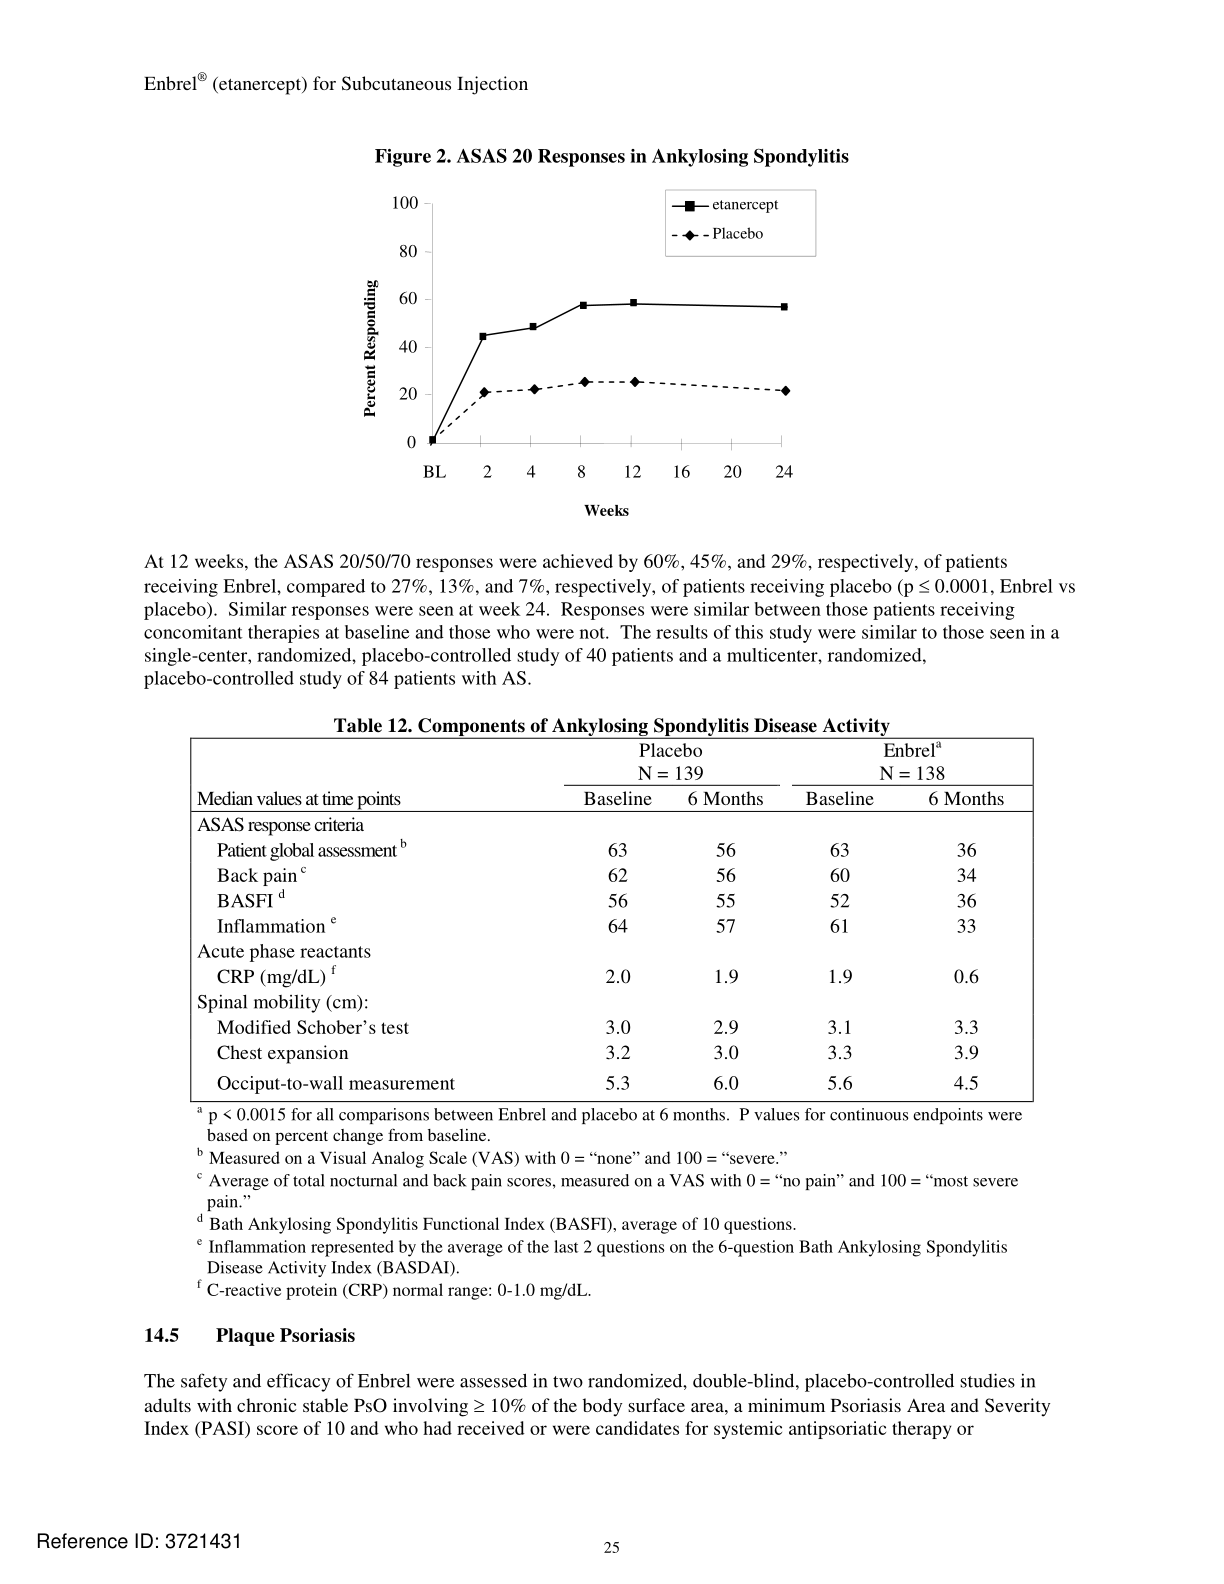partial_lined_merged_cells: (188, 735, 1035, 1104)
